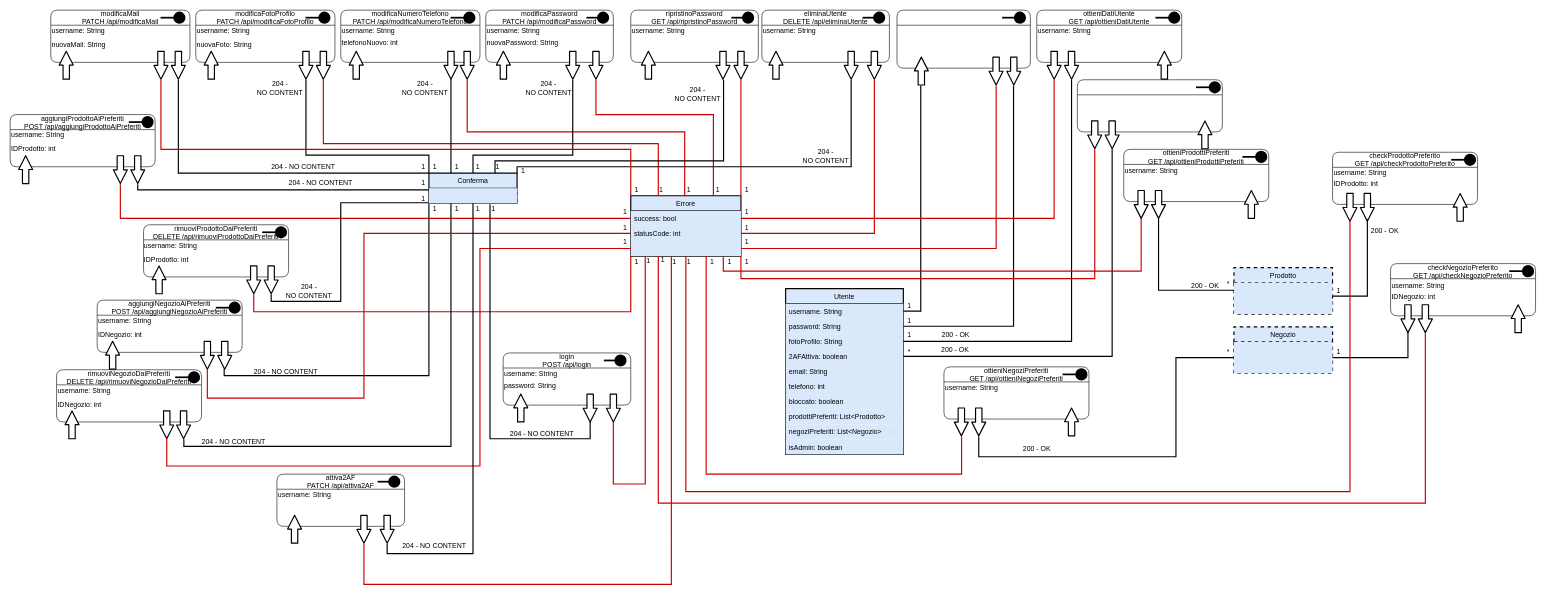
The diagram is 1550 pixels wide and 596 high, and some of its shapes have lost their labels. The shapes that lost their labels are listed below. From the top down, each one's centre as x and y in pixels, then its label:
At point (963, 39): "registrati POST /api/registrati".
At point (1149, 105): "trovaTuttiUtenti GET /api/trovaTuttiUtenti".
At point (685, 248): "messaggio: String".
At point (963, 321): "201 - CREATED".
